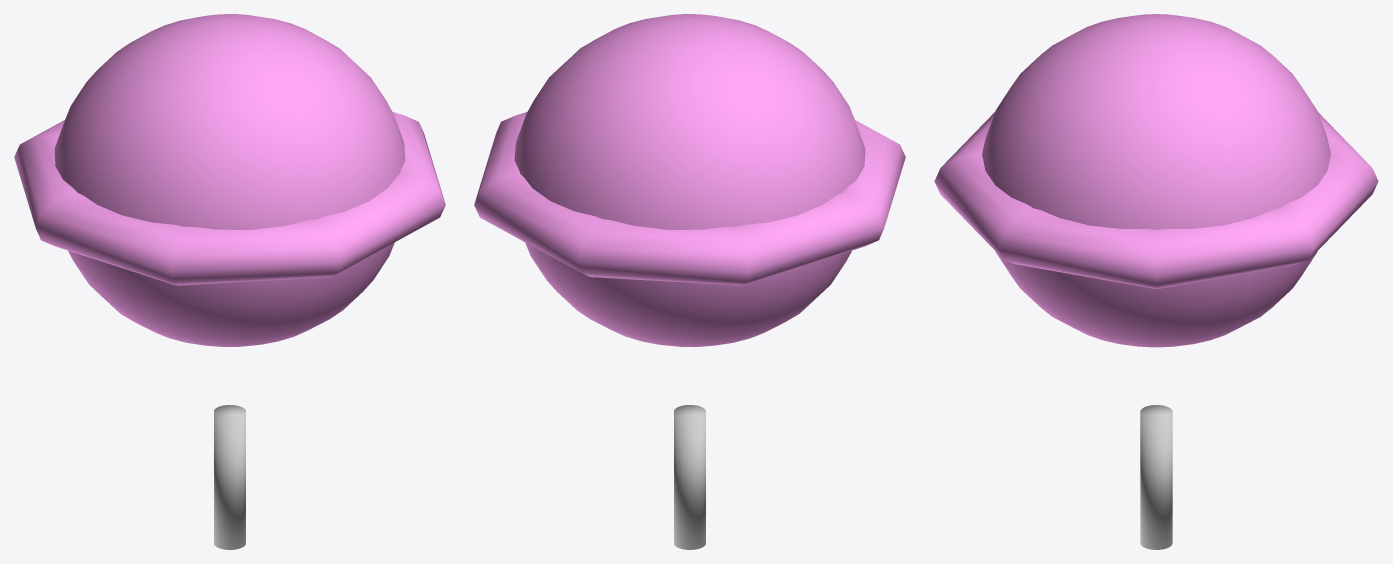
Rendered from pinkball.fbx.
The picture shows the model from 3 angles, left to right: view 1: azimuth 30°, elevation 25°; view 2: azimuth 150°, elevation 25°; view 3: azimuth 270°, elevation 25°; orthographic projection.
Visible parts, largest first — view 1: Sphere, Cylinder; view 2: Sphere, Cylinder; view 3: Sphere, Cylinder.
Boxes of the visible parts, box(x1,y1,x2,y2) form: Sphere: box(14, 14, 445, 347); Cylinder: box(214, 405, 245, 549); Sphere: box(474, 14, 905, 347); Cylinder: box(674, 405, 705, 549); Sphere: box(934, 14, 1378, 347); Cylinder: box(1140, 405, 1172, 549).
Size of the model in its own units: 874 by 1100 by 866.
